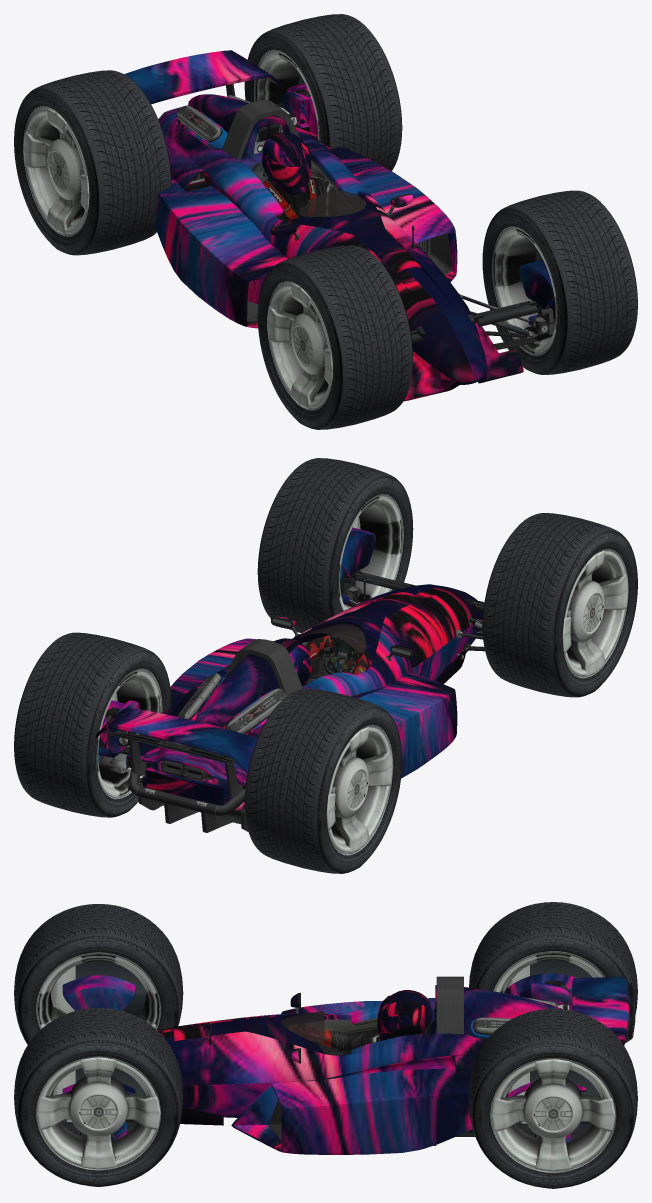
The model's file is car.glb.
3 renders of one model, top to bottom at view 1: azimuth 30°, elevation 25°; view 2: azimuth 150°, elevation 25°; view 3: azimuth 270°, elevation 25°, orthographic. The views are drawn at different scales.
Visible parts, largest first — view 1: Body001, WheelFR, WheelBR, WheelFL, WheelBL, Body001_1, Body001_3, Body001_2; view 2: Body001, WheelBR, WheelFR, WheelBL, WheelFL, Body001_1, Body001_2, Body001_3; view 3: Body001, WheelBL, WheelFL, WheelFR, WheelBR, Body001_1, Body001_3, Body001_2.
Boxes of the visible parts, x1,y1,x2,y2 form: Body001: (81, 50, 555, 401); WheelFR: (257, 245, 413, 429); WheelBR: (14, 70, 171, 255); WheelFL: (482, 190, 637, 374); WheelBL: (244, 14, 402, 170); Body001_1: (176, 78, 554, 349); Body001_3: (262, 176, 356, 222); Body001_2: (298, 190, 366, 216); Body001: (95, 527, 483, 810); WheelBR: (244, 689, 402, 873); WheelFR: (482, 513, 637, 697); WheelBL: (14, 632, 171, 817); WheelFL: (257, 458, 413, 633); Body001_1: (106, 570, 484, 832); Body001_2: (189, 623, 366, 748); Body001_3: (302, 635, 369, 686); Body001: (62, 973, 628, 1154); WheelBL: (468, 1008, 637, 1188); WheelFL: (14, 1008, 183, 1186); WheelFR: (14, 904, 183, 1044); WheelBR: (469, 902, 637, 1014); Body001_1: (209, 976, 635, 1145); Body001_3: (288, 1024, 397, 1053); Body001_2: (281, 1011, 324, 1042).
Size of what is drawn, in the model's own units: 2.13 by 1.07 by 3.95.
4 materials, 3 textured.
